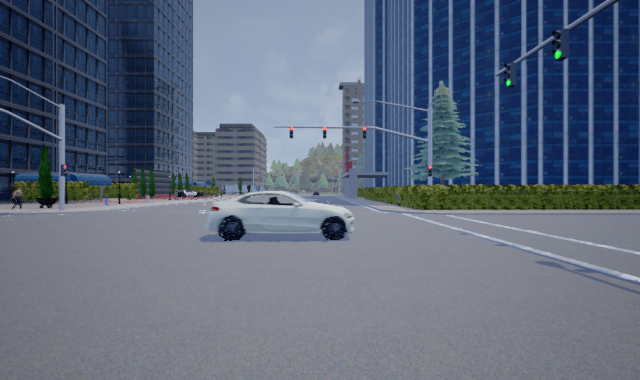pedestrian: (9, 184, 26, 209)
vehicle: (204, 191, 354, 241), (174, 189, 203, 198)
